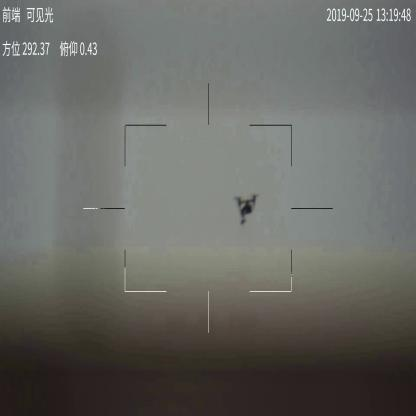uav: (232, 193, 260, 225)
